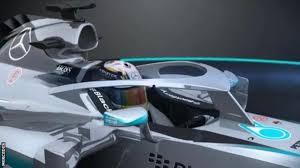f1_car: (1, 1, 300, 167)
